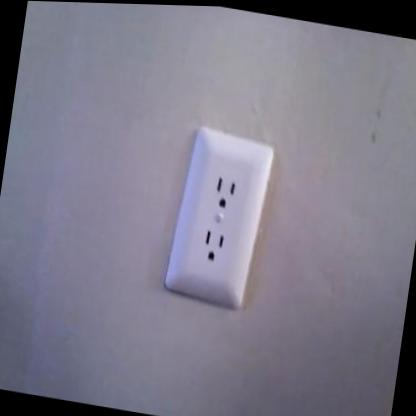OUTLET: (160, 122, 274, 309)
